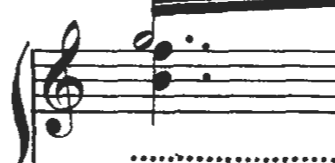treble_clef: (37, 17, 91, 147)
